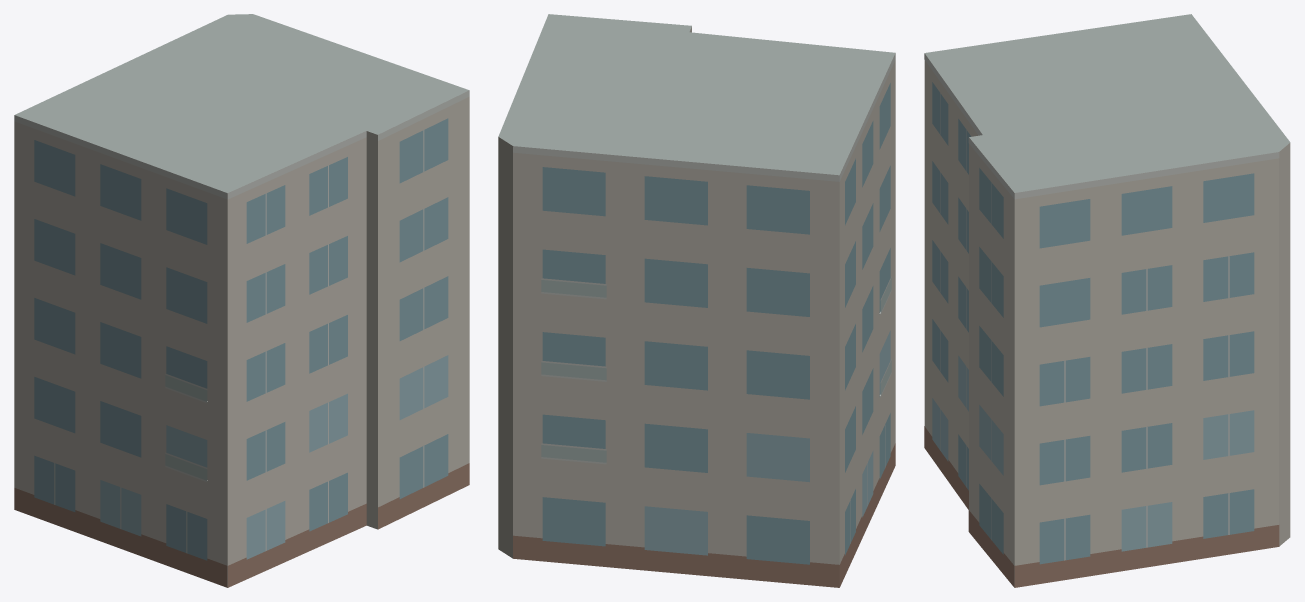
Rendered from survey-upis-32676902.glb.
The picture shows the model from 3 angles, left to right: view 1: azimuth 30°, elevation 25°; view 2: azimuth 150°, elevation 25°; view 3: azimuth 270°, elevation 25°; orthographic projection. The views are drawn at different scales.
Parts seen in each view (by area): view 1: survey-upis-32676902.tmp; view 2: survey-upis-32676902.tmp; view 3: survey-upis-32676902.tmp.
Part boxes in pixels (x1,y1,x2,y2): survey-upis-32676902.tmp: (14,14,469,587); survey-upis-32676902.tmp: (498,14,895,587); survey-upis-32676902.tmp: (924,14,1290,587).
Bounding box in the file's own units: 14.79 × 15.2 × 12.78.
